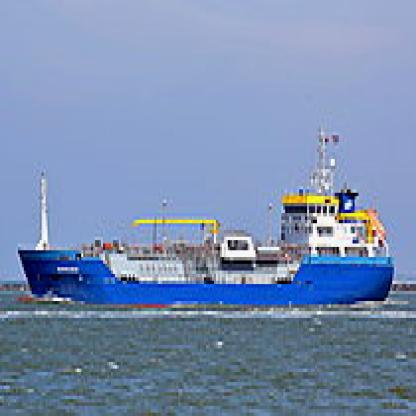Tanker: (14, 112, 402, 311)
